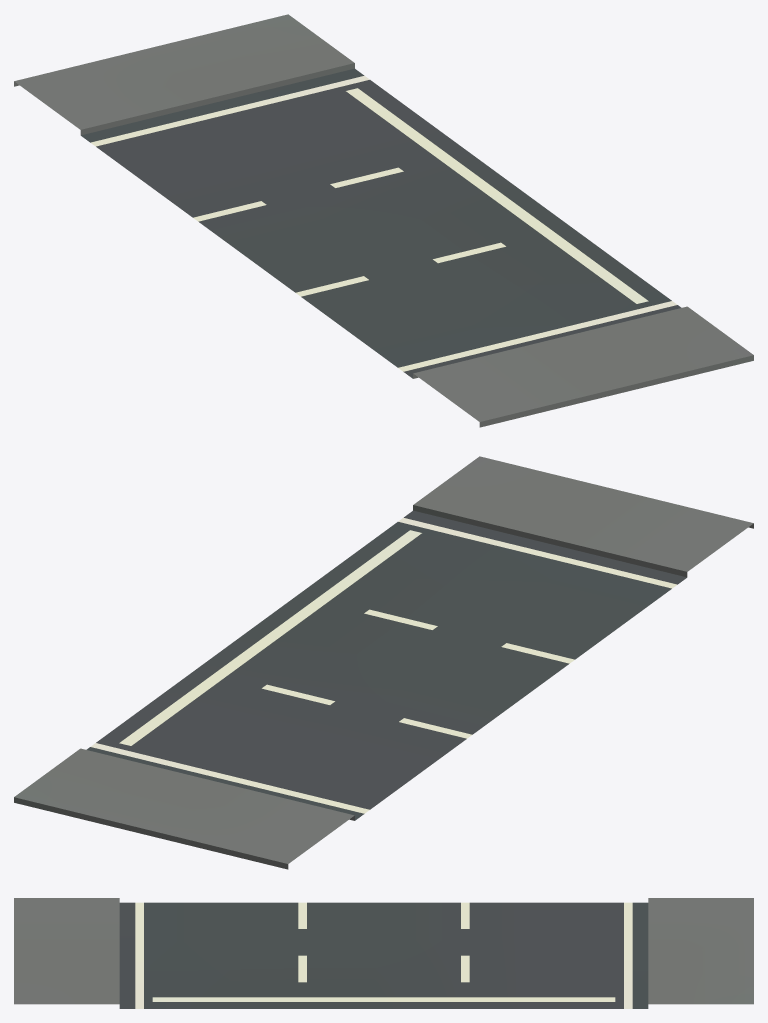
The model's file is city_road_stopline_2.glb.
3 views of the same model, one above another, from view 1: azimuth 30°, elevation 25°; view 2: azimuth 150°, elevation 25°; view 3: azimuth 270°, elevation 25° (orthographic). The views are drawn at different scales.
Parts seen in each view (by area): view 1: Road_Stopline_1; view 2: Road_Stopline_1; view 3: Road_Stopline_1.
Boxes of the visible parts, x1=… form: Road_Stopline_1: x1=14, y1=14, x2=753, y2=427; Road_Stopline_1: x1=14, y1=456, x2=753, y2=869; Road_Stopline_1: x1=14, y1=898, x2=753, y2=1008.
Size of the model in its own units: 2.04 by 0.0396 by 6.
Materials: 1 (1 with a texture image).
